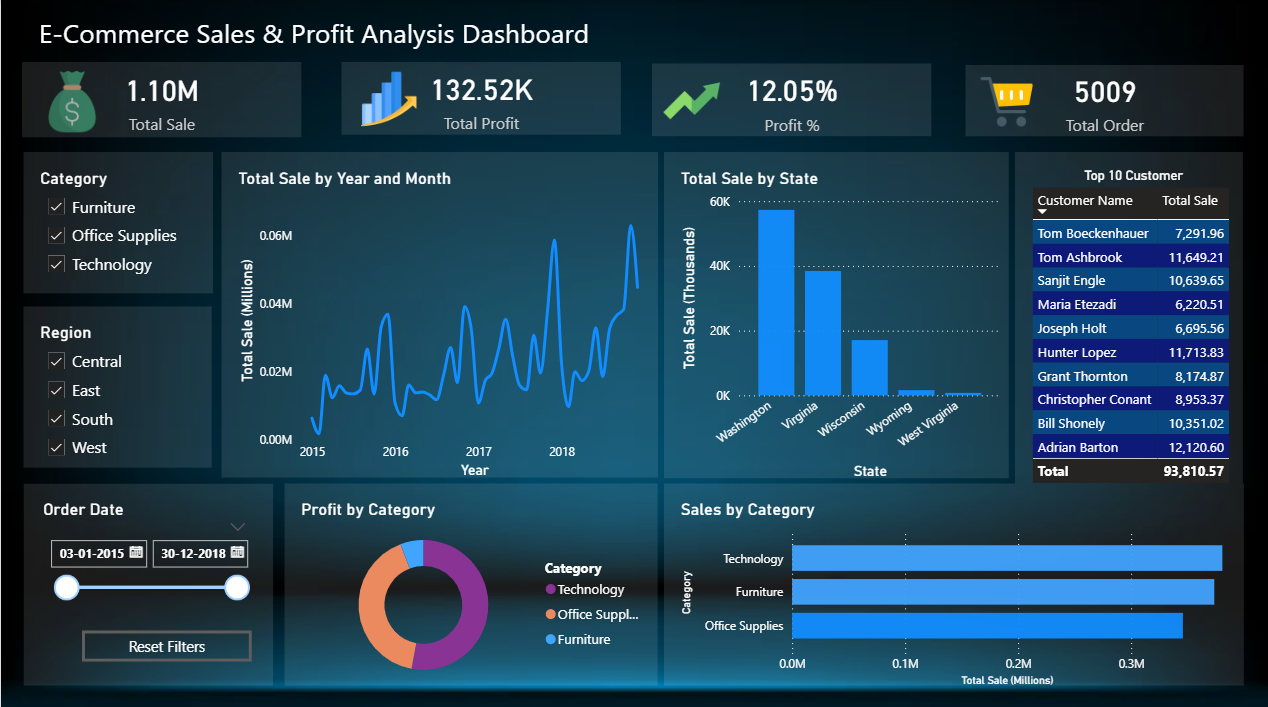

What the dashboard file says about the page in this screenshot:
{"tool":"powerbi","page":{"name":"Page 1","canvas":[1280,720],"ordinal":0},"visuals":[{"type":"textbox","box":[33,11,605.2,49.5],"z":0},{"type":"card","fields":{"Values":["superstore csv.Total Sale"]},"box":[21.6,63.3,281.9,76.2],"z":1000},{"type":"card","fields":{"Values":["superstore csv.Total Profit"]},"box":[343.7,63.3,281.9,73.3],"z":2000},{"type":"card","fields":{"Values":["superstore csv.Total Order="]},"box":[973.6,66.2,280.4,71.9],"z":3000},{"type":"card","fields":{"Values":["superstore csv.Profit %"]},"box":[657.2,64.7,281.9,73.3],"z":4000},{"type":"slicer","title":"Category","fields":{"Values":["superstore csv.Category"]},"box":[23,153.9,191.3,142.4],"z":5000},{"type":"slicer","title":"Region","fields":{"Values":["superstore csv.Region"]},"box":[23,310.6,189.8,162.5],"z":6000},{"type":"slicer","title":"Order Date","fields":{"Values":["superstore csv.Order Date"]},"box":[23,489,251.7,204.2],"z":7000},{"type":"actionButton","title":"Reset Filters","box":[81.4,637.1,171.4,31.4],"z":8000},{"type":"clusteredBarChart","title":"Sales by Category","fields":{"Category":["superstore csv.Category"],"Y":["superstore csv.Total Sale"]},"box":[668.7,489,585.3,204.2],"z":9000},{"type":"lineChart","fields":{"Y":["superstore csv.Total Sale"],"Category":["superstore csv.Order Date.Variation.Date Hierarchy.Year","superstore csv.Order Date.Variation.Date Hierarchy.Month"]},"box":[222.6,154.4,440.6,328.6],"z":10000},{"type":"donutChart","title":"Profit by Category","fields":{"Category":["superstore csv.Category"],"Y":["Sum(superstore csv.Profit)"]},"box":[286.2,489,376.8,204.2],"z":11000},{"type":"columnChart","fields":{"Category":["superstore csv.State"],"Y":["superstore csv.Total Sale"]},"box":[668.7,153.9,348,329.3],"z":12000},{"type":"tableEx","title":"Top 10 Customer","fields":{"Values":["superstore csv.Customer Name","superstore csv.Total Sale"]},"box":[1023.6,154.4,230.2,334.6],"z":13000},{"type":"image","box":[40.9,66.6,62.1,74.2],"z":14000},{"type":"image","box":[363.4,69.7,56,62.1],"z":15000},{"type":"image","box":[663.2,74.2,68.1,57.5],"z":16000},{"type":"image","box":[988.8,75.7,53,56],"z":17000}]}

Visuals, with their boxes in screenshot pixels (x1, y1, x2, y2), scaled from the page's 1280x720 canvas onto the 1268x707 screenshot:
textbox: 33:11:632:59
card - superstore csv.Total Sale: 21:62:301:137
card - superstore csv.Total Profit: 340:62:620:134
card - superstore csv.Total Order=: 964:65:1242:136
card - superstore csv.Profit %: 651:64:930:136
"Category" slicer: 23:151:212:291
"Region" slicer: 23:305:211:465
"Order Date" slicer: 23:480:272:681
"Reset Filters" actionButton: 81:626:250:656
"Sales by Category" clusteredBarChart: 662:480:1242:681
lineChart - superstore csv.Total Sale x superstore csv.Order Date.Variation.Date Hierarchy.Year: 221:152:657:474
"Profit by Category" donutChart: 284:480:657:681
columnChart - superstore csv.State x superstore csv.Total Sale: 662:151:1007:474
"Top 10 Customer" tableEx: 1014:152:1242:480
image: 41:65:102:138
image: 360:68:415:129
image: 657:73:724:129
image: 980:74:1032:129
